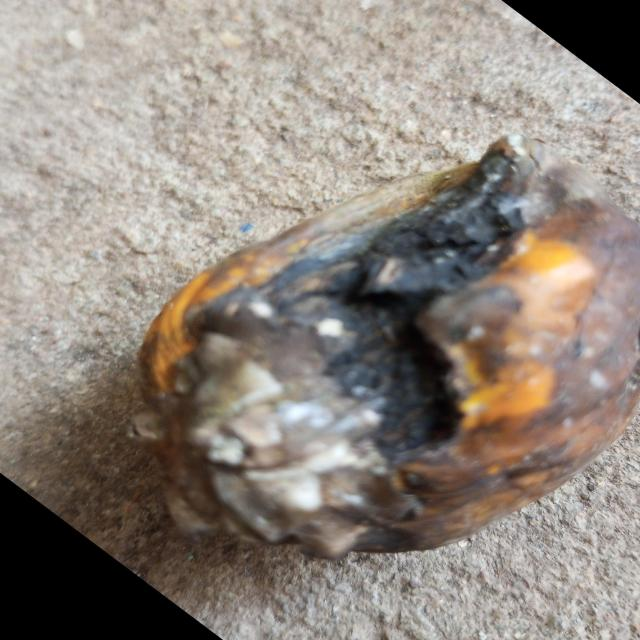damaged: (125, 137, 640, 565)
